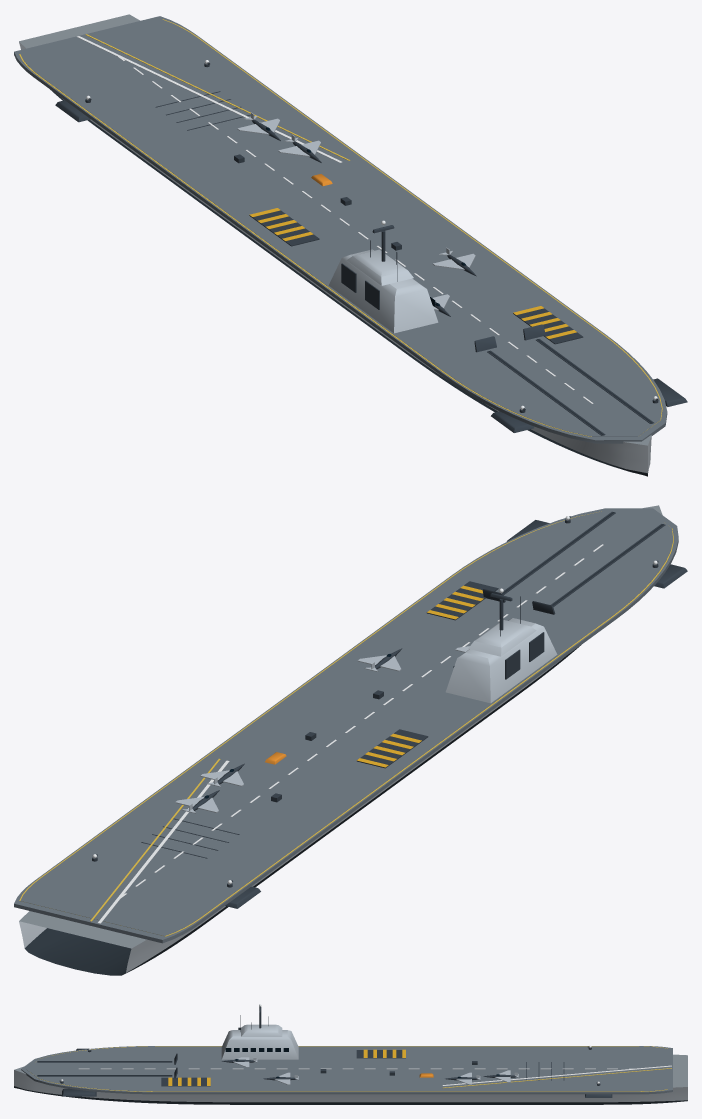
Rendered from ship_carrier.glb.
The picture shows the model from 3 angles, top to bottom: view 1: azimuth 30°, elevation 25°; view 2: azimuth 150°, elevation 25°; view 3: azimuth 270°, elevation 25°; orthographic projection. The views are drawn at different scales.
Parts seen in each view (by area): view 1: flight_deck_inner, flight_deck, island, hull, deck_edge, hull_under, island_bridge, deck_under, elevator_aft, elevator_fwd; view 2: flight_deck_inner, flight_deck, hull_under, island, deck_edge, hull, deck_under, island_bridge, elevator_aft, elevator_fwd; view 3: flight_deck_inner, hull, flight_deck, hull_under, island, deck_edge, centerline, deck_under, island_bridge, landing_strip, elevator_fwd, elevator_aft (+7 smaller).
Boxes of the visible parts, box(x1,y1,x2,y2) form: flight_deck_inner: box(20, 19, 661, 436); flight_deck: box(14, 16, 667, 443); island: box(328, 249, 438, 333); hull: box(19, 42, 651, 473); deck_edge: box(19, 19, 662, 436); hull_under: box(50, 89, 648, 476); island_bridge: box(346, 249, 413, 285); deck_under: box(19, 14, 651, 445); elevator_aft: box(249, 210, 319, 246); elevator_fwd: box(513, 308, 583, 344); flight_deck_inner: box(20, 511, 673, 935); flight_deck: box(14, 508, 678, 943); hull_under: box(24, 645, 580, 975); island: box(445, 618, 557, 703); deck_edge: box(19, 511, 673, 936); hull: box(19, 659, 561, 972); deck_under: box(19, 505, 662, 948); island_bridge: box(468, 620, 536, 656); elevator_aft: box(357, 729, 428, 768); elevator_fwd: box(427, 581, 498, 620); flight_deck_inner: box(26, 1046, 667, 1091); hull: box(14, 1070, 687, 1102); flight_deck: box(21, 1046, 672, 1094); hull_under: box(14, 1086, 687, 1104); island: box(221, 1030, 298, 1059); deck_edge: box(30, 1046, 667, 1091); centerline: box(79, 1068, 632, 1069); deck_under: box(14, 1054, 687, 1087); island_bridge: box(241, 1024, 282, 1036); landing_strip: box(442, 1065, 671, 1085); elevator_fwd: box(161, 1077, 210, 1086); elevator_aft: box(356, 1050, 405, 1058).
Bounding box in the file's own units: 0.86 × 0.61 × 4.9.
